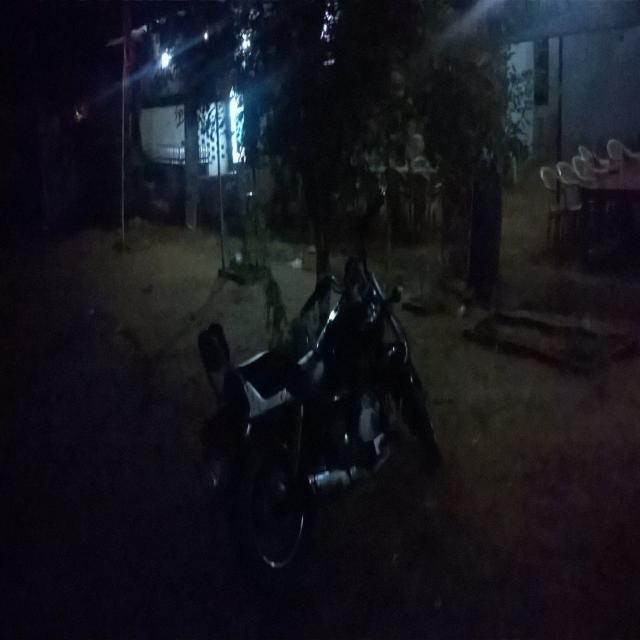Motorbike: (195, 196, 446, 586)
